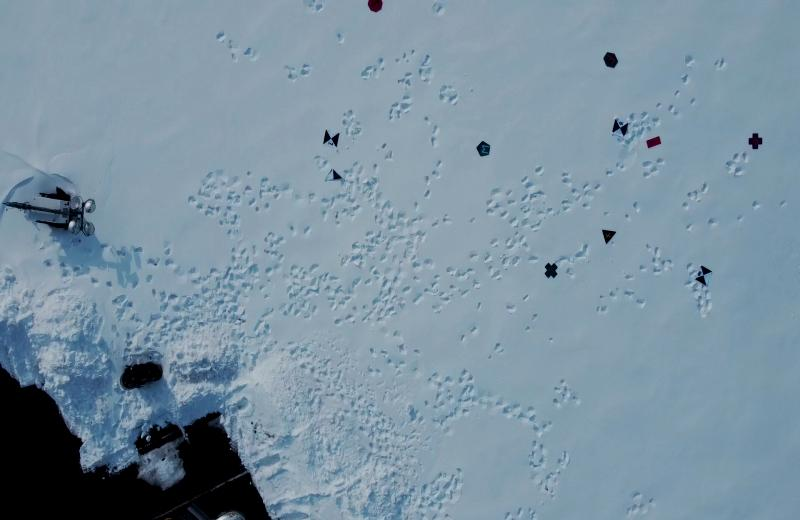Cross: (748, 132, 764, 150), (543, 262, 559, 280)
Hexagon: (602, 50, 618, 70)
Octagon: (366, 0, 384, 13)
Pentagon: (474, 138, 492, 159)
Rectangle: (644, 135, 662, 148)
Triangle: (600, 224, 616, 245)
